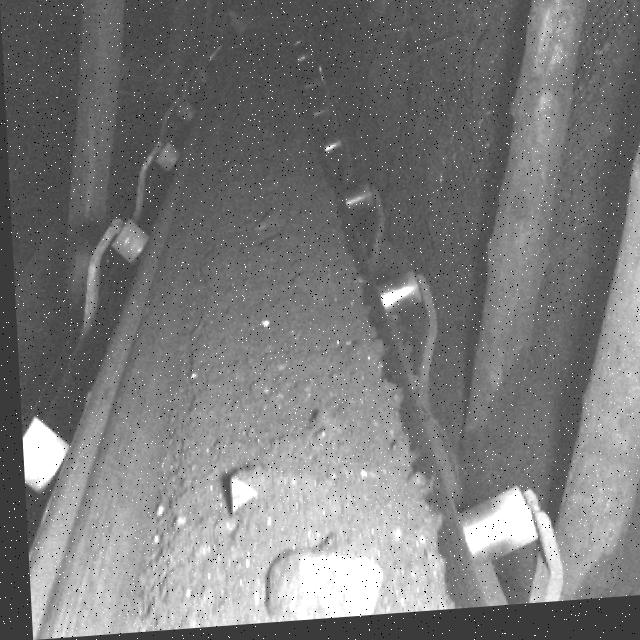large_sized_coal: (252, 554, 380, 627), (217, 469, 270, 523)
